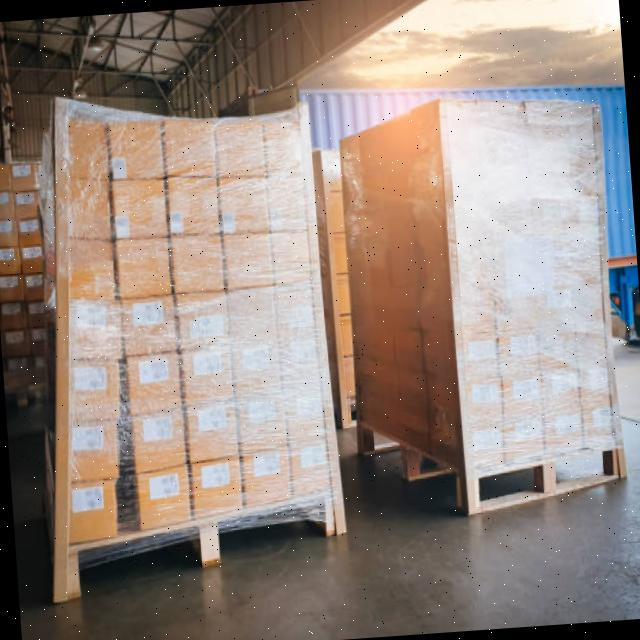Wooden-Pallets: (352, 421, 628, 516)
